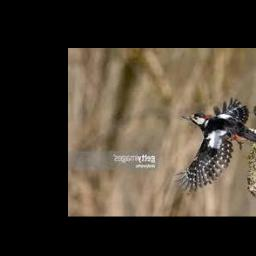Woodpecker: (174, 97, 256, 196)
